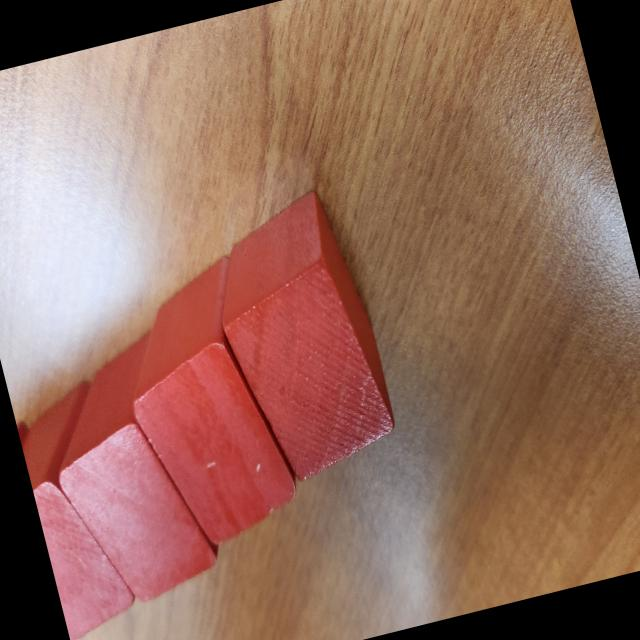red: (194, 182, 410, 496), (102, 253, 304, 557), (27, 326, 223, 616), (10, 380, 152, 640)
